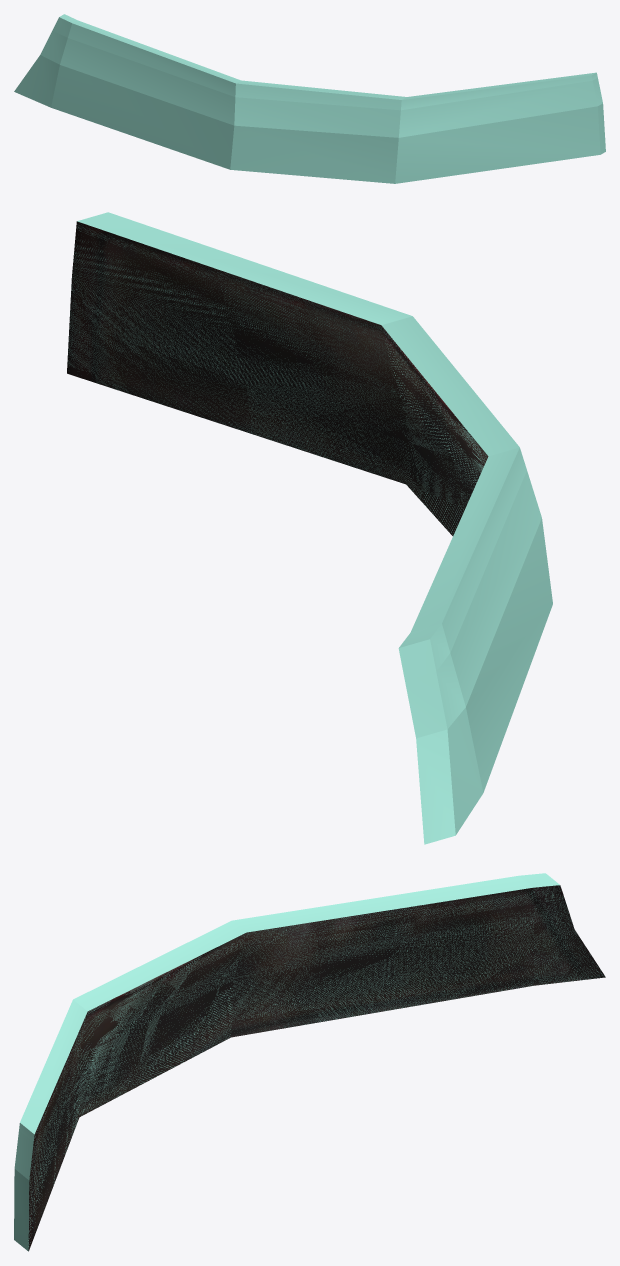
The model's file is SampleCar_01_Indicator_RL.fbx.
The picture shows the model from 3 angles, top to bottom: view 1: azimuth 30°, elevation 25°; view 2: azimuth 150°, elevation 25°; view 3: azimuth 270°, elevation 25°; orthographic projection. The views are drawn at different scales.
Parts seen in each view (by area): view 1: UTM_glass_002; view 2: UTM_glass_002, glass_002_LOD0; view 3: glass_002_LOD0, UTM_glass_002.
Boxes of the visible parts, x1=… form: UTM_glass_002: x1=14, y1=14, x2=605, y2=183; UTM_glass_002: x1=67, y1=212, x2=552, y2=844; glass_002_LOD0: x1=67, y1=221, x2=488, y2=535; glass_002_LOD0: x1=28, y1=885, x2=605, y2=1250; UTM_glass_002: x1=14, y1=873, x2=602, y2=1251.
Bounding box in the file's own units: 24.44 × 5.33 × 22.52.
